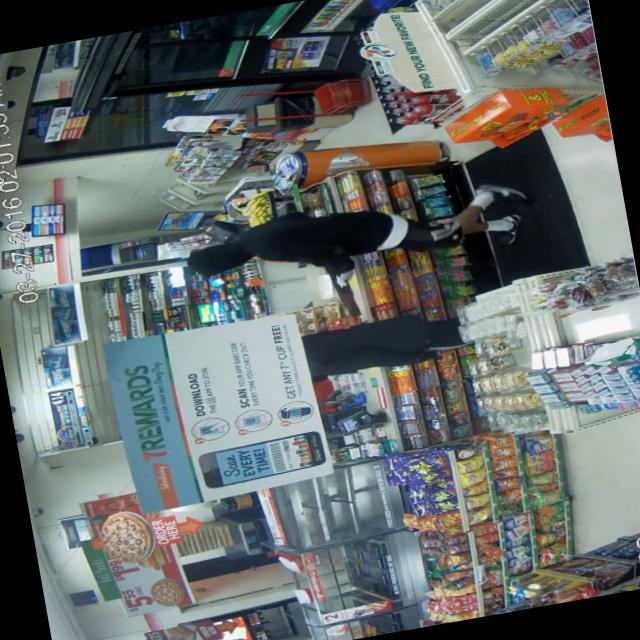long weapon: (302, 245, 381, 331)
